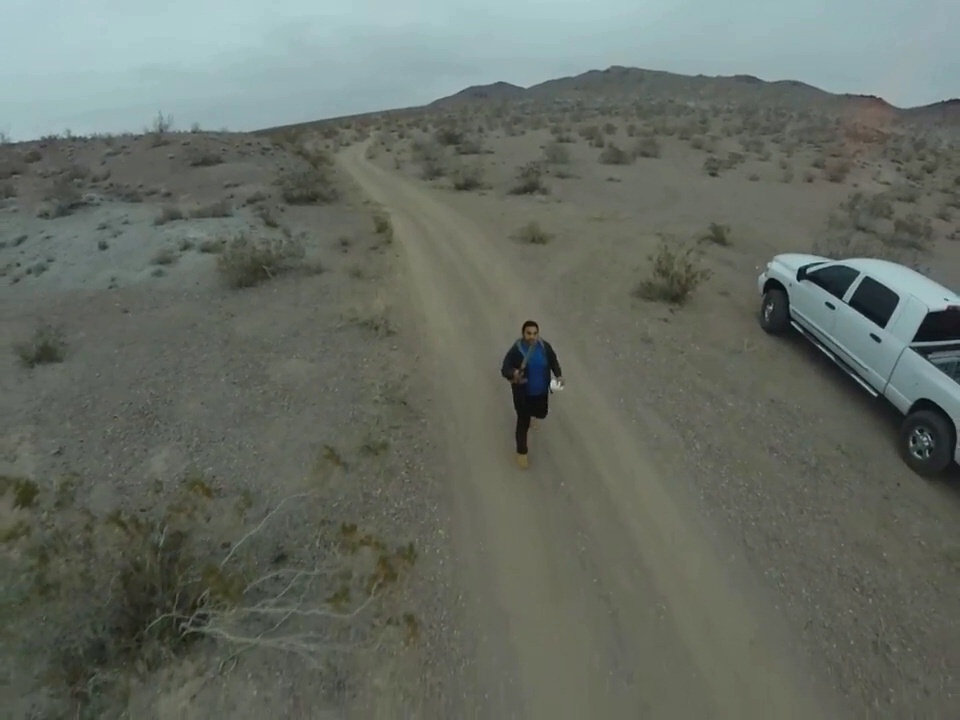insan: (496, 319, 567, 471)
